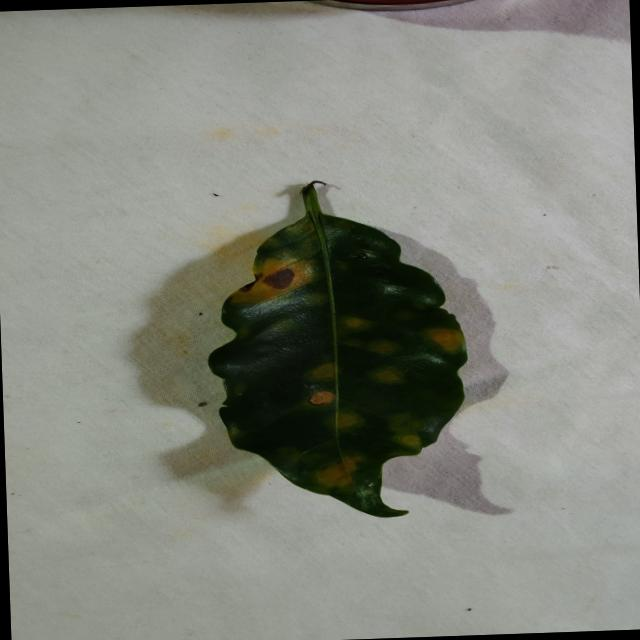KaratDaunKopi: (315, 462, 352, 488), (423, 328, 463, 352), (263, 268, 294, 288), (369, 367, 404, 384), (394, 433, 422, 454), (337, 412, 363, 430), (340, 316, 371, 331), (367, 339, 400, 353), (307, 362, 334, 379), (308, 293, 328, 305), (395, 309, 415, 319), (344, 338, 363, 347)
PengorokDaunKopi: (309, 391, 335, 405)
